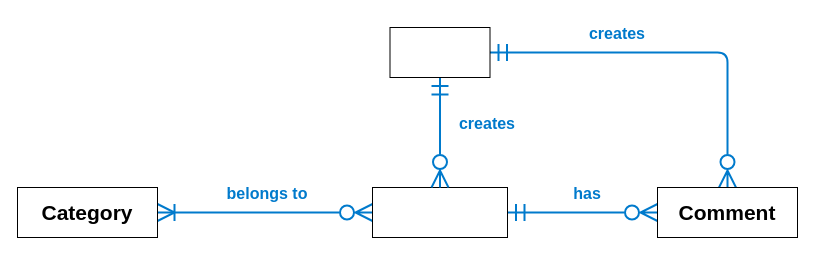
The diagram is 815 pixels wide and 255 high, and some of its shapes have lost their labels. Here are the shapes that lost their labels. From the top down, the centre of each, then its label:
point 439,52: User
point 440,212: Article
